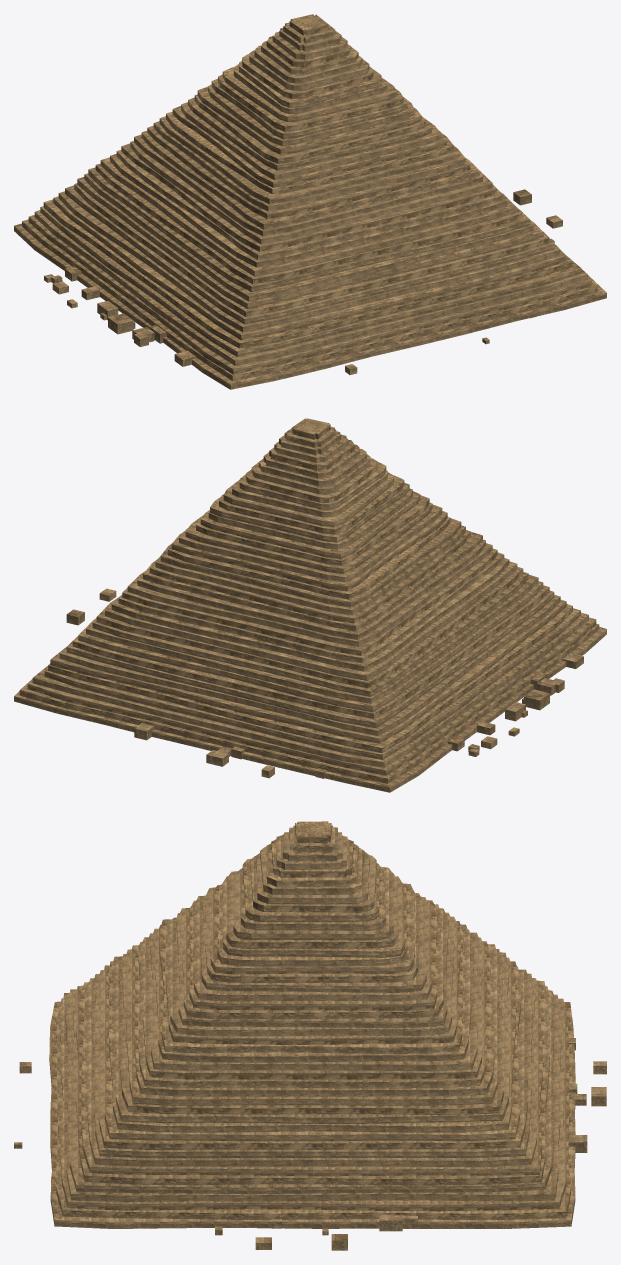
The model's file is giza_g1c.glb.
3 views of the same model, one above another, from view 1: azimuth 30°, elevation 25°; view 2: azimuth 150°, elevation 25°; view 3: azimuth 270°, elevation 25° (orthographic). The views are drawn at different scales.
Visible parts, largest first — view 1: g1c; view 2: g1c; view 3: g1c.
Part boxes in pixels (x1=…): g1c: x1=14, y1=14, x2=606, y2=389; g1c: x1=14, y1=418, x2=606, y2=792; g1c: x1=14, y1=821, x2=606, y2=1250.
Size of the model in its own units: 52.88 by 27 by 50.41.
Materials: 1 (1 with a texture image).
